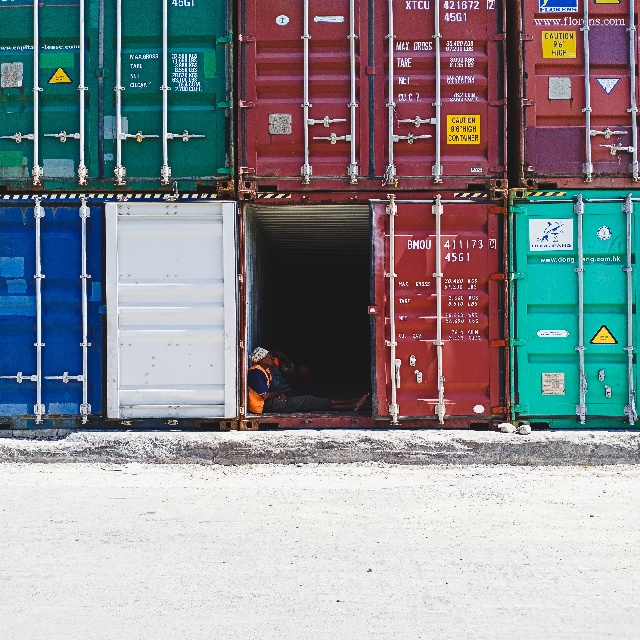Sin_guantes: (277, 392, 288, 401), (275, 350, 286, 358)
